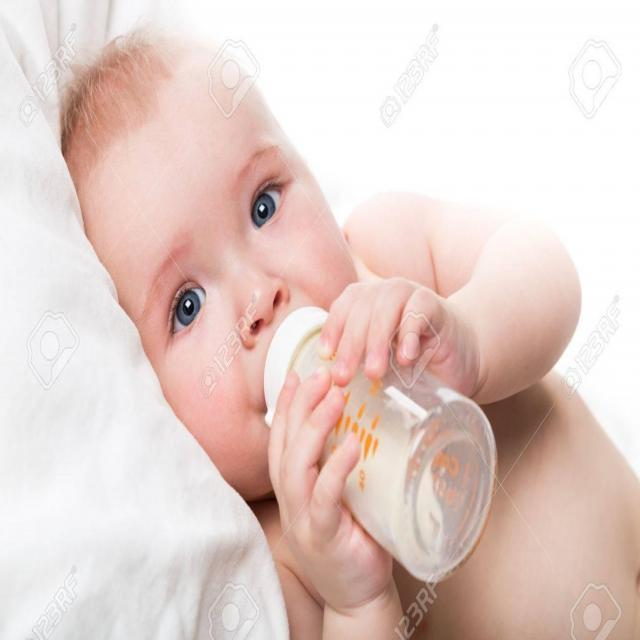child: (65, 34, 638, 634)
